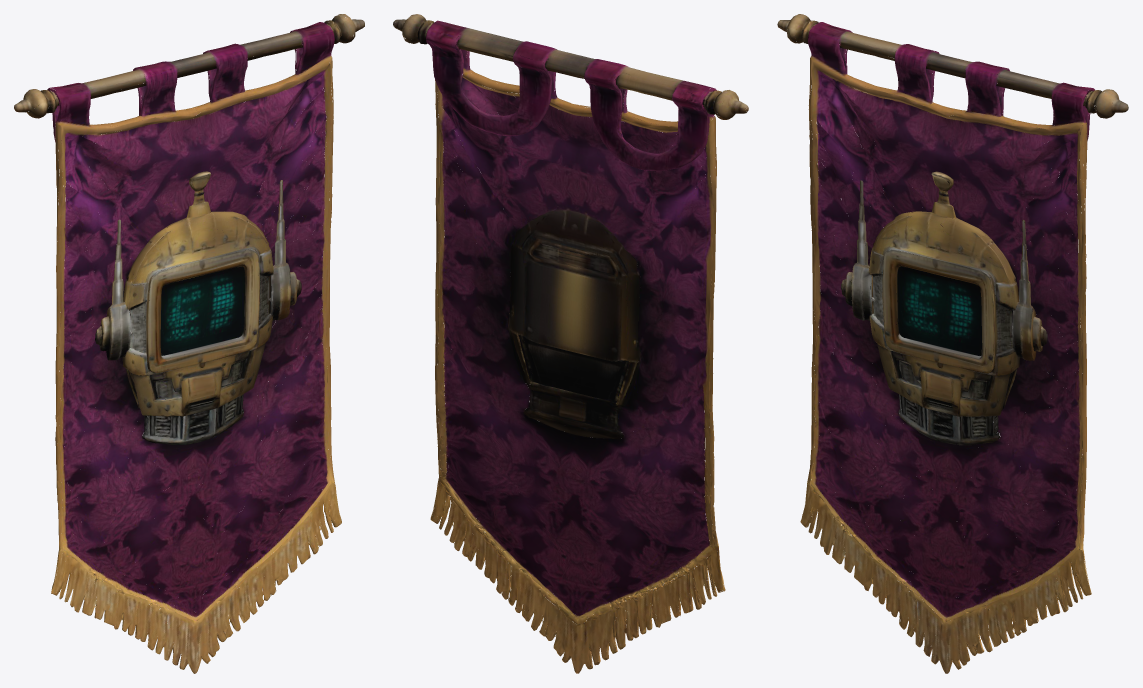
Rendered from banner.glb.
3 renders of one model, left to right at view 1: azimuth 30°, elevation 25°; view 2: azimuth 150°, elevation 25°; view 3: azimuth 330°, elevation 25°, orthographic.
Visible parts, largest first — view 1: banner; view 2: banner; view 3: banner.
Boxes of the visible parts, x1,y1,x2,y2 form: banner: (14,14,364,673); banner: (393,14,748,673); banner: (777,14,1128,673).
Size of the model in its own units: 1.4 by 2.36 by 0.1742.
1 material, 1 textured.
